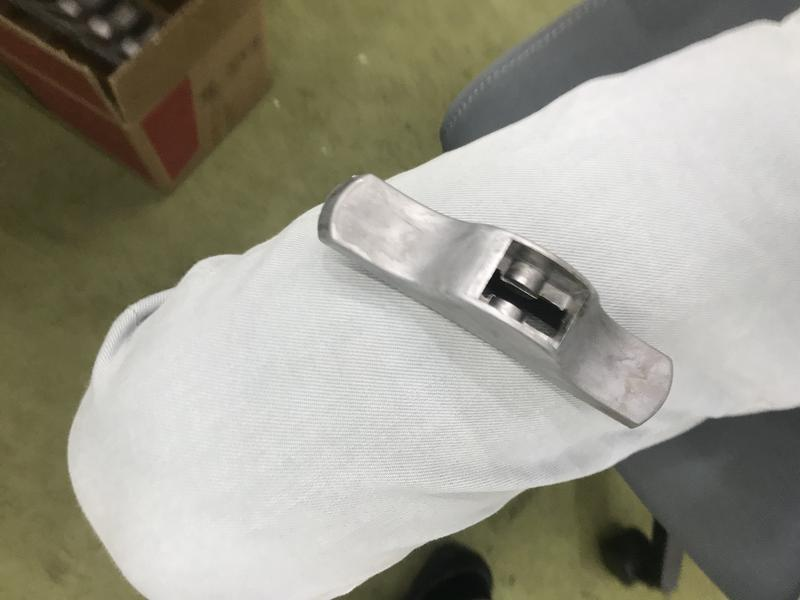zapchast: (309, 159, 686, 446)
